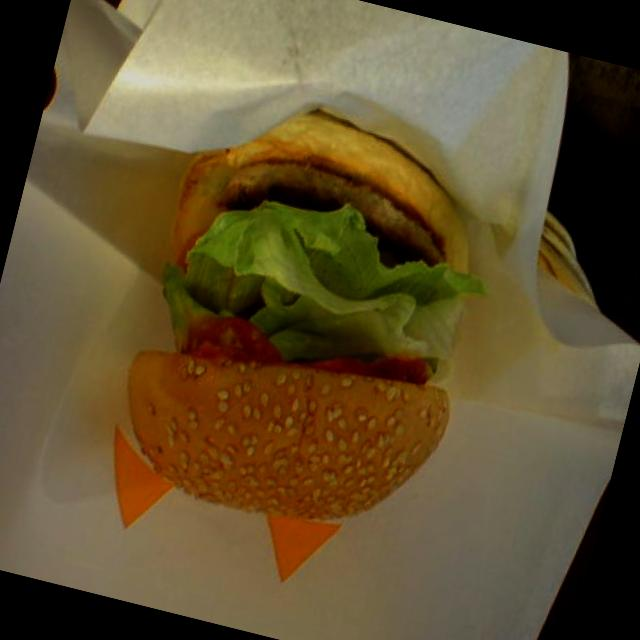Hamburger: (99, 74, 517, 560)
